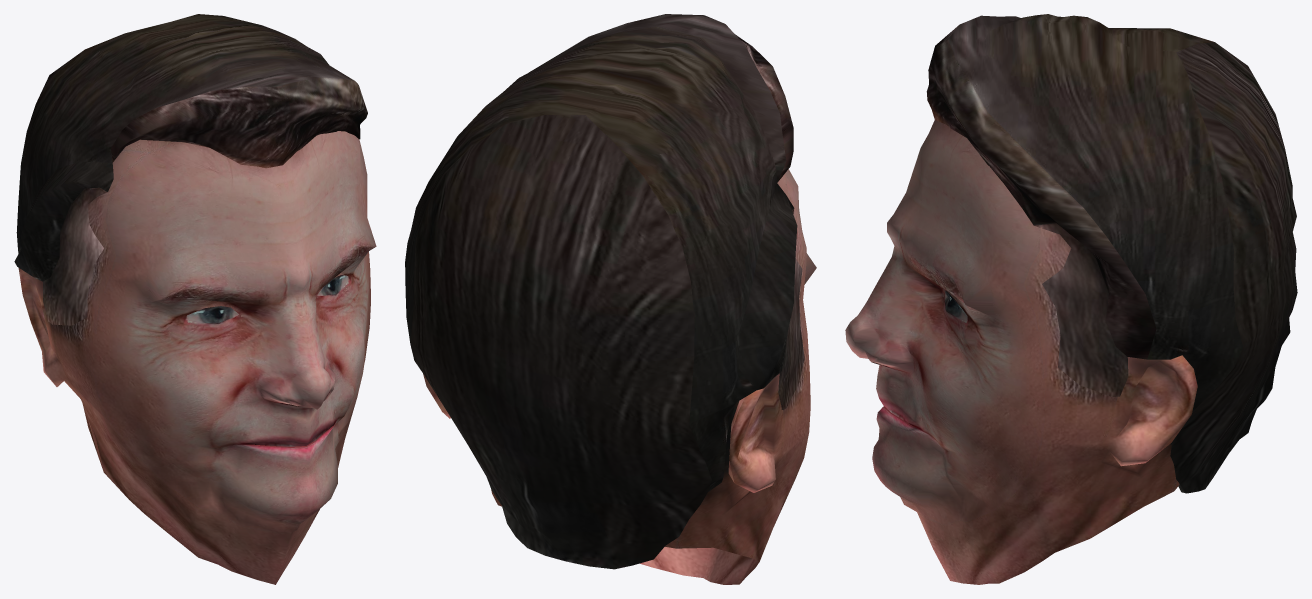
The model's file is head-dL2teXRX.glb.
The picture shows the model from 3 angles, left to right: view 1: azimuth 30°, elevation 25°; view 2: azimuth 150°, elevation 25°; view 3: azimuth 270°, elevation 25°; orthographic projection. The views are drawn at different scales.
Parts seen in each view (by area): view 1: Plane_0, Plane.001_1; view 2: Plane.001_1, Plane_0; view 3: Plane.001_1, Plane_0.
Boxes of the visible parts, x1,y1,x2,y2 form: Plane_0: [18, 131, 376, 584]; Plane.001_1: [14, 14, 367, 325]; Plane.001_1: [405, 14, 804, 569]; Plane_0: [423, 169, 816, 584]; Plane.001_1: [926, 14, 1297, 493]; Plane_0: [845, 120, 1197, 584].
Bounding box in the file's own units: 5.84 × 8.73 × 6.51.
2 materials, 2 textured.
